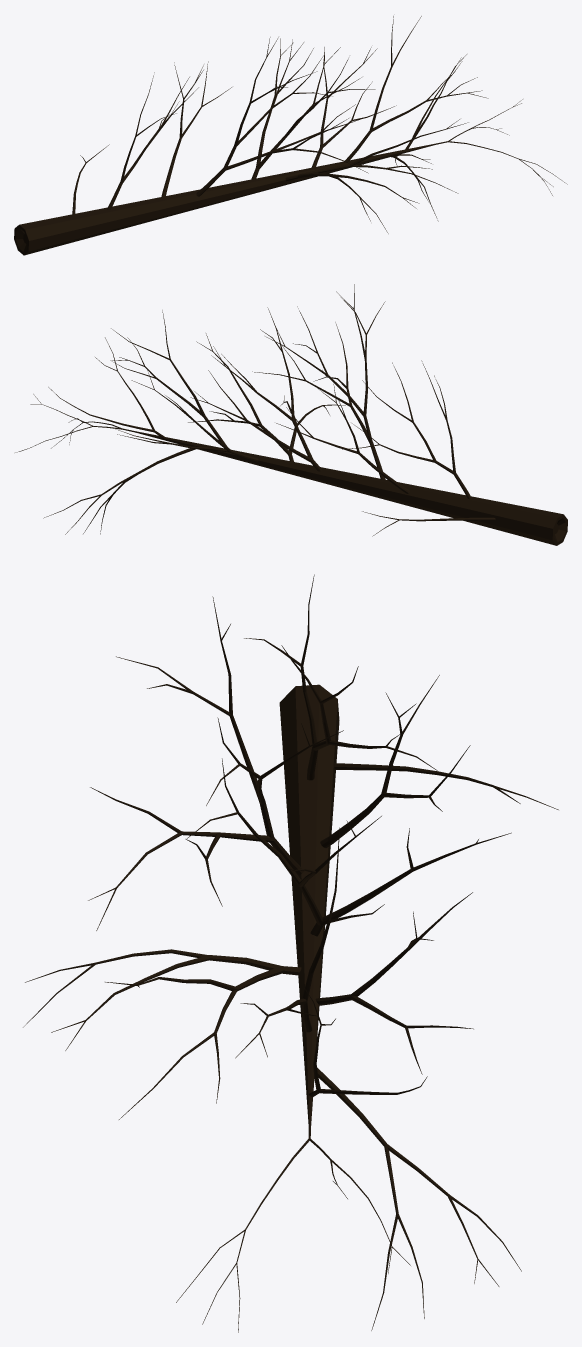
File: deadTree.fbx
3 views of the same model, one above another, from view 1: azimuth 30°, elevation 25°; view 2: azimuth 150°, elevation 25°; view 3: azimuth 270°, elevation 25° (orthographic). The views are drawn at different scales.
Parts seen in each view (by area): view 1: deadTree; view 2: deadTree; view 3: deadTree.
Part boxes in pixels (x1,y1,x2,y2): deadTree: (14,16,567,255); deadTree: (15,284,567,545); deadTree: (23,574,558,1332).
Bounding box in the file's own units: 503 × 248 × 227.
